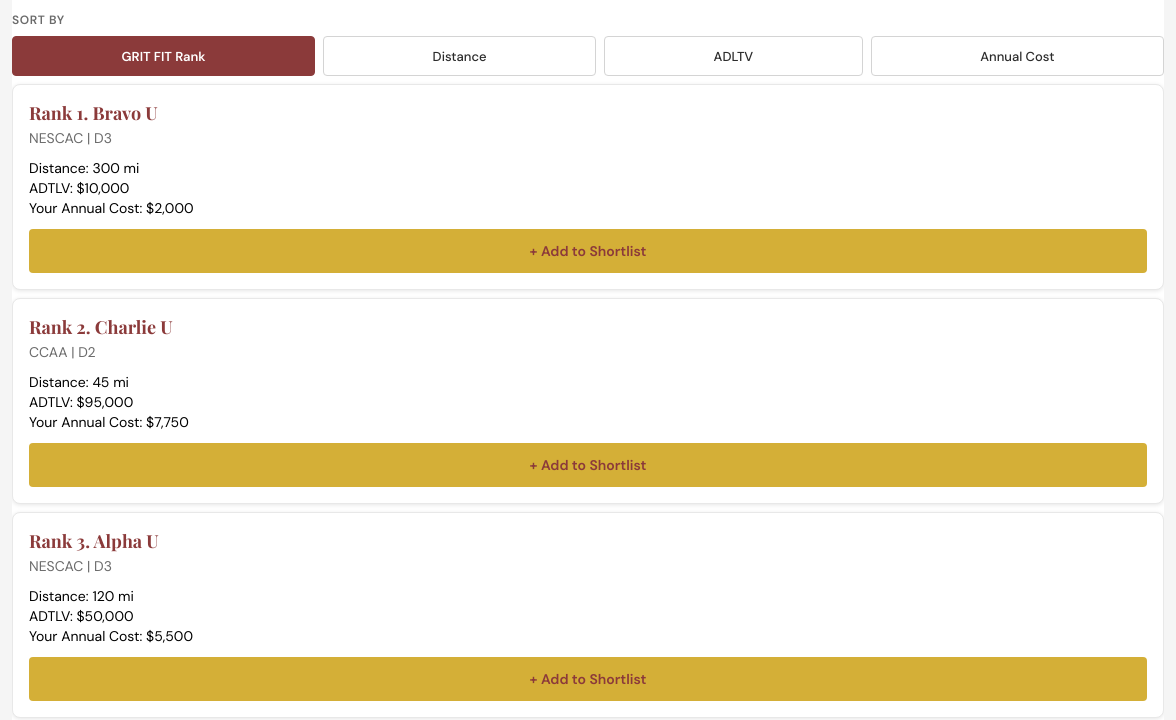
G8 — table tooltips (GritFitTableView) › mobile sort-label tooltips › ADLTV sort button tooltip resolves to TABLE_TOOLTIPS.ADTLV (cross-spelling mapping)
The image size is (1176, 720).
Check: the text "ADLTV" is shown, box top-left (714, 48), bottom-right (753, 64)
# Focus the label — same visibility path as hover/tap, no timer.
Focus the radio button with test id "mobile-sort-label-adltv": [733, 56] box top-left (604, 36), bottom-right (863, 76)
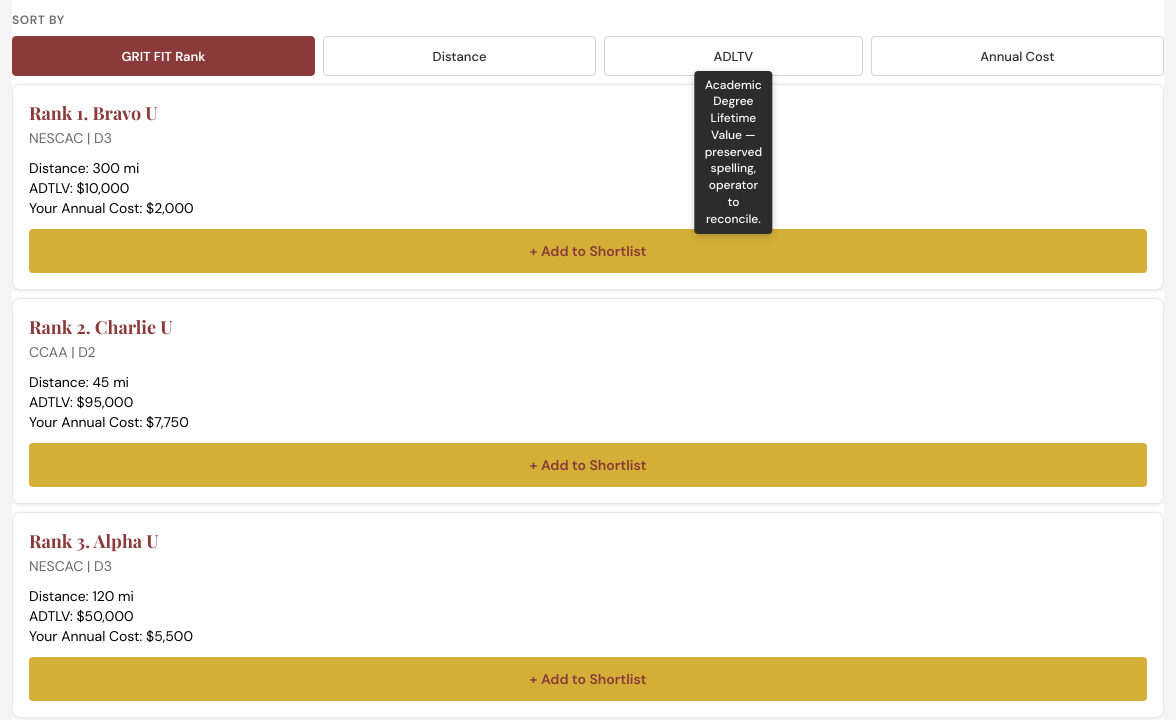
Check: the tooltip is shown, box top-left (695, 70), bottom-right (772, 234)
Check: the tooltip reads "Academic Degree Lifetime Value — preserved spelling, operator to reconcile.", box top-left (705, 76), bottom-right (762, 227)
